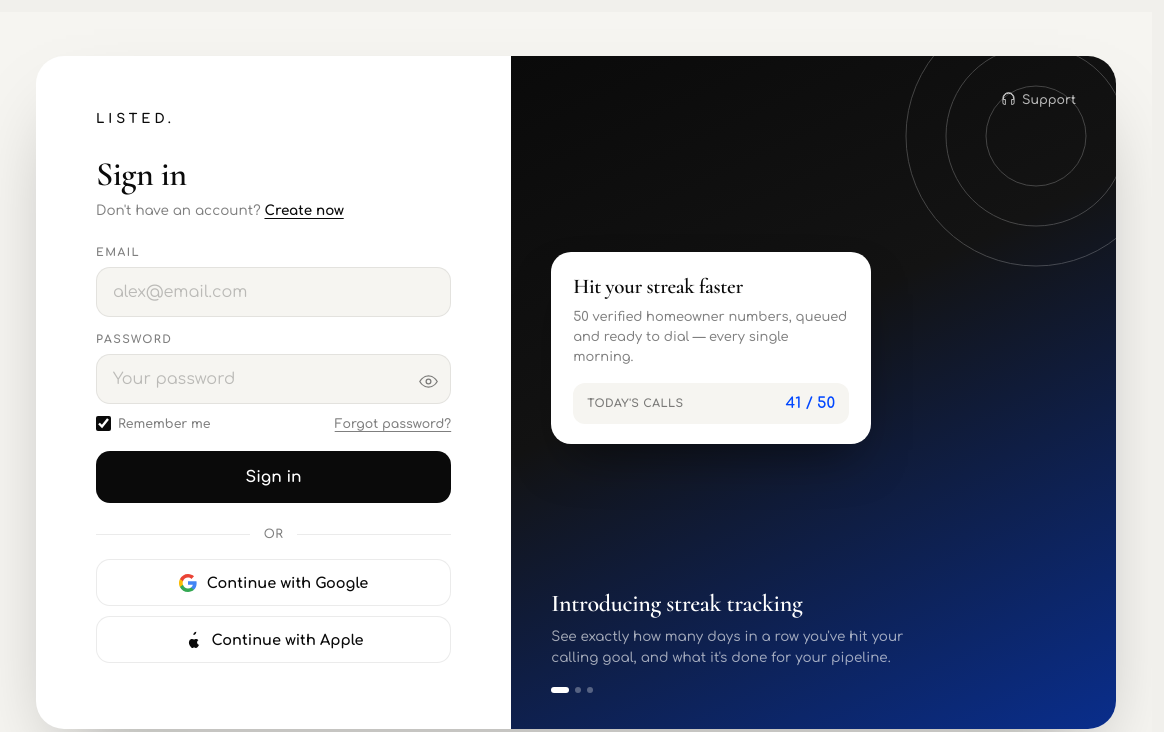
Scenario: Login page › shows the server error when sign in fails and re-enables the button
This screenshot has width=1164, height=732.
In the field labelled "Email": (274, 292) [96,267,451,317], type "a@b.co"
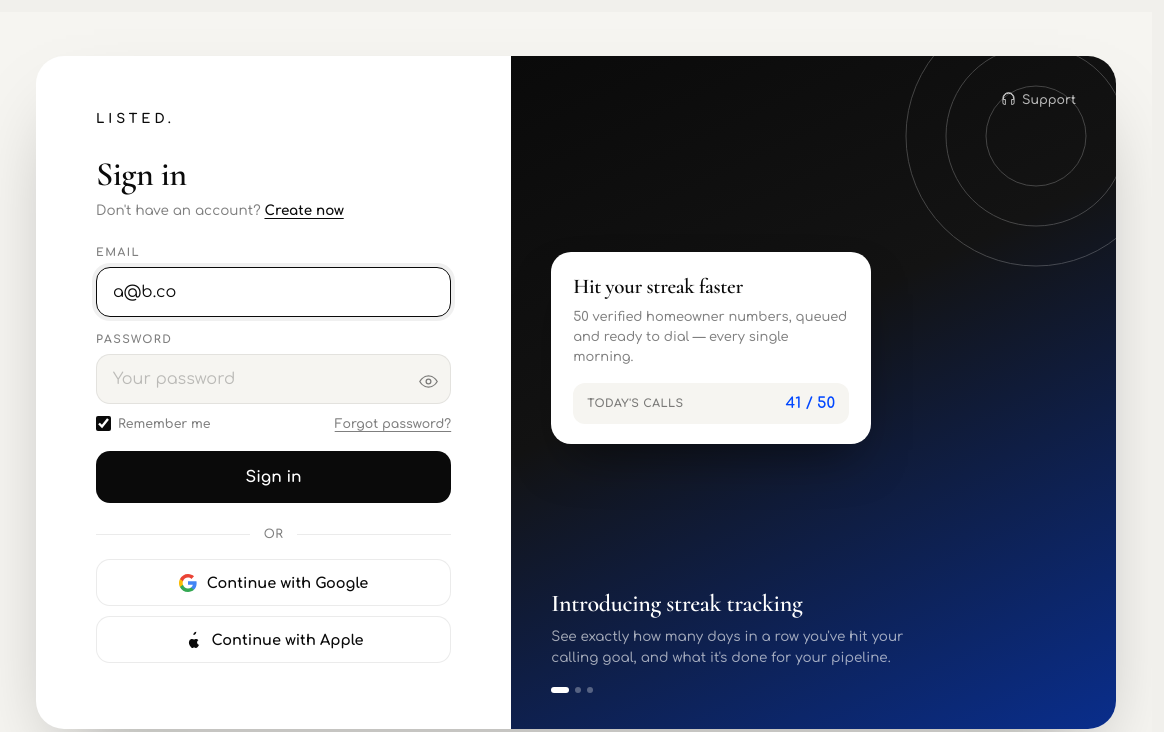
In the password field labelled "Password": (274, 379) [96,354,451,404], type "wrongpass"
Then press Enter
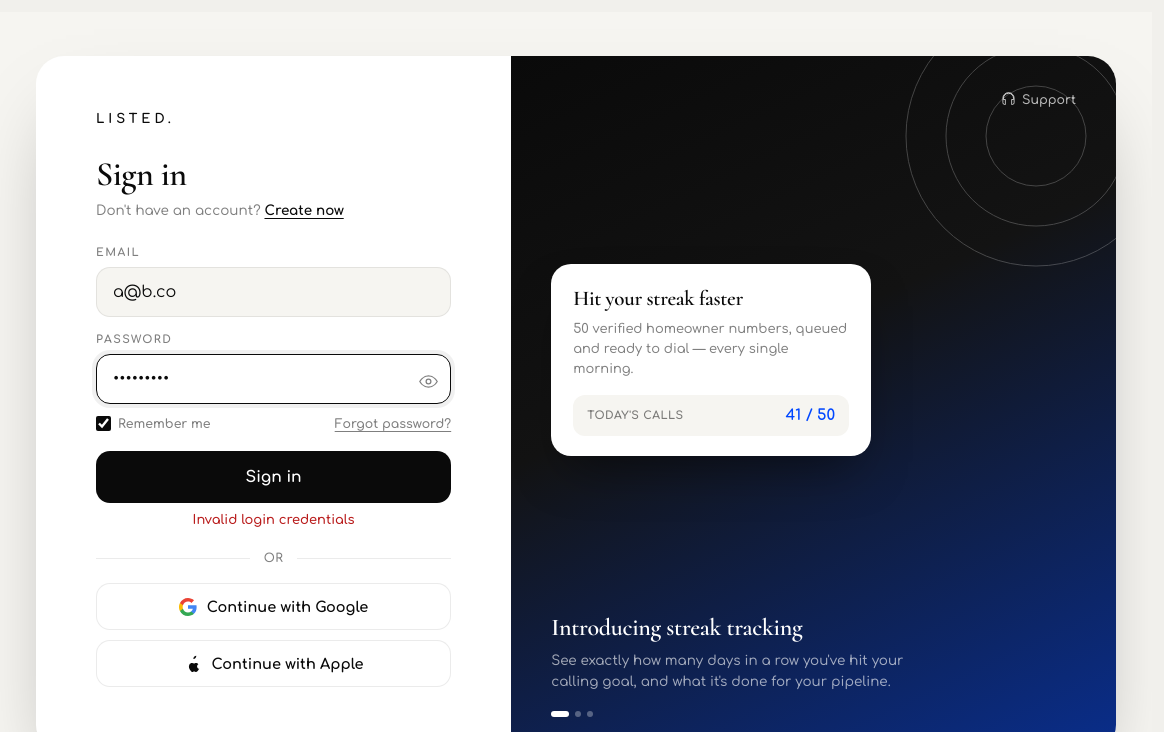
Check: the button "Sign in" is enabled, box [96,451,451,503]
Check: the message reads "Invalid login credentials", box [193,513,355,527]
